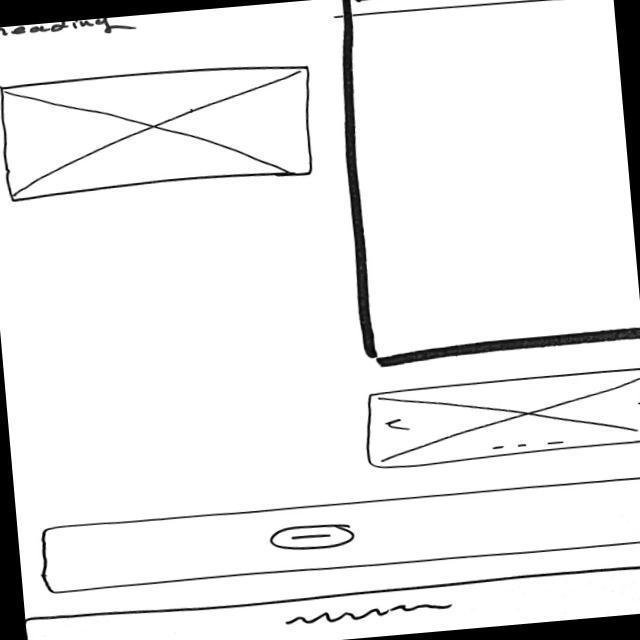container: (330, 1, 640, 369), (38, 472, 640, 600), (25, 561, 640, 640)
icon-button: (269, 522, 358, 555)
image: (1, 57, 322, 203), (359, 367, 640, 470)
label: (1, 16, 133, 46)
text: (276, 598, 458, 630)
